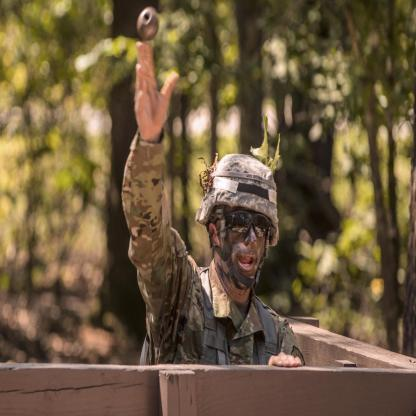Grenade: (136, 7, 159, 40)
